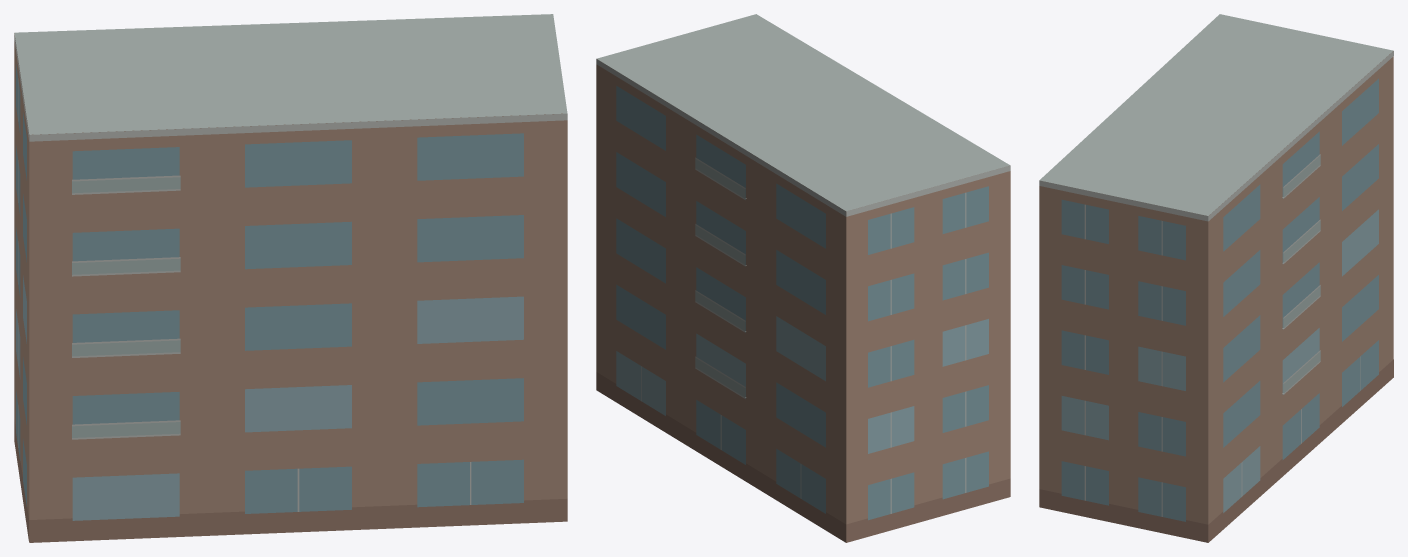
The model's file is survey-upis-32888532.glb.
The picture shows the model from 3 angles, left to right: view 1: azimuth 30°, elevation 25°; view 2: azimuth 150°, elevation 25°; view 3: azimuth 270°, elevation 25°; orthographic projection. The views are drawn at different scales.
Parts seen in each view (by area): view 1: survey-upis-32888532.tmp; view 2: survey-upis-32888532.tmp; view 3: survey-upis-32888532.tmp.
Boxes of the visible parts, x1,y1,x2,y2 form: survey-upis-32888532.tmp: [14, 14, 567, 542]; survey-upis-32888532.tmp: [596, 14, 1010, 542]; survey-upis-32888532.tmp: [1039, 14, 1393, 542].
Bounding box in the file's own units: 19.36 × 14.6 × 14.36.
